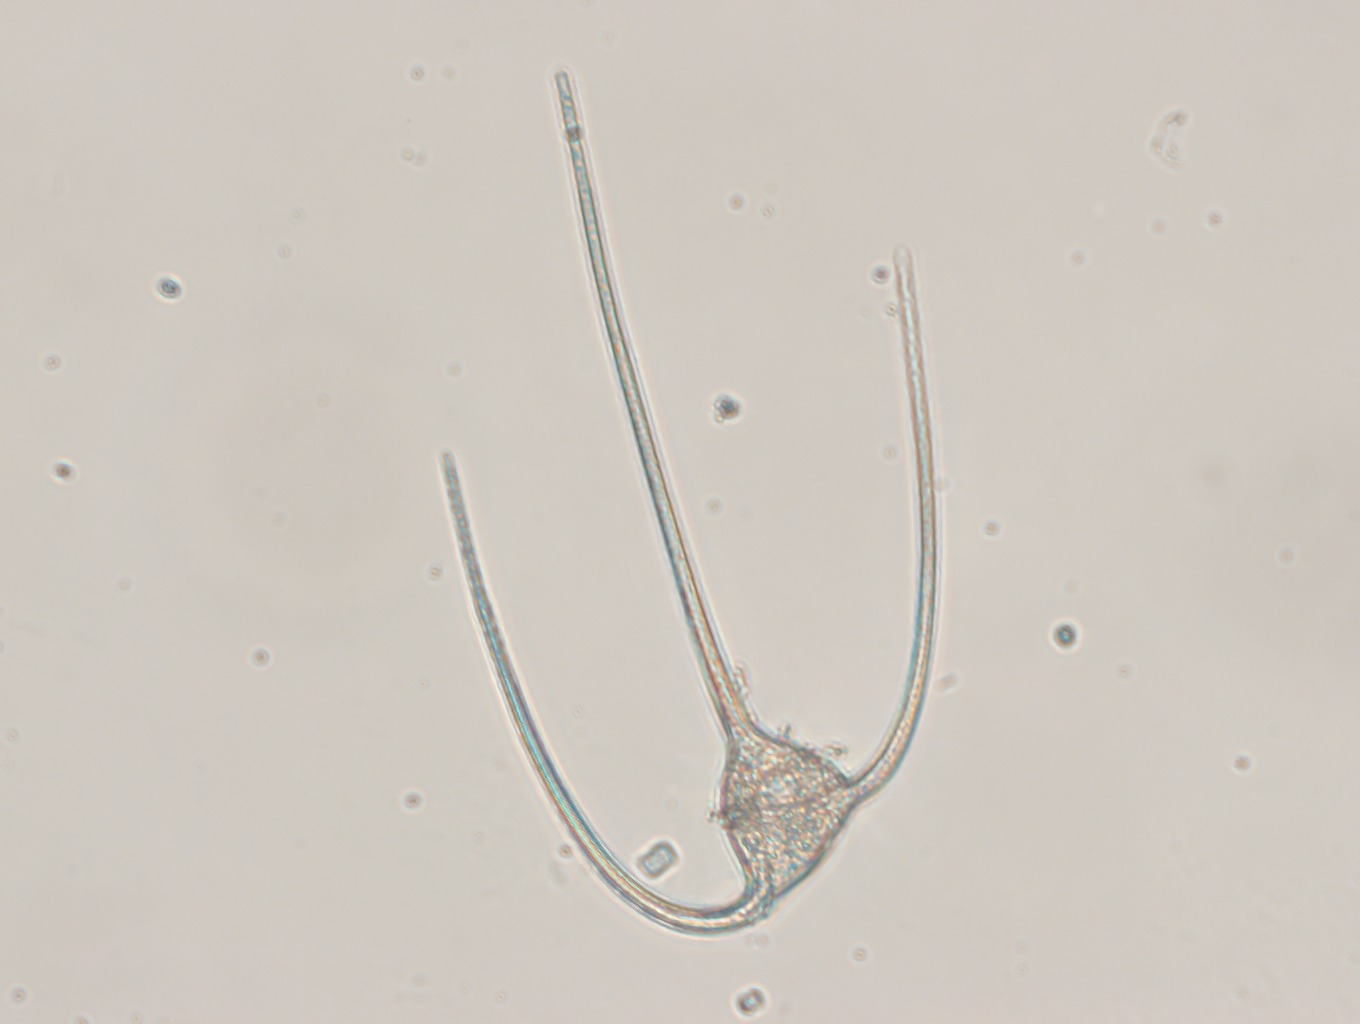ceratium trichoceros: (433, 58, 951, 942)
